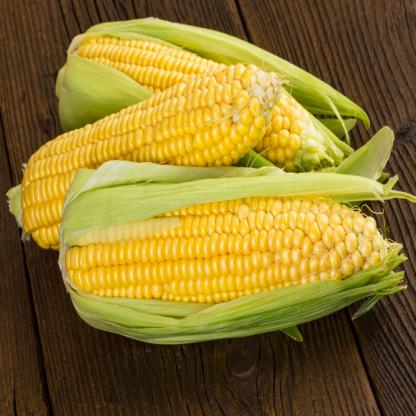---: (19, 61, 294, 249), (63, 195, 395, 316)
